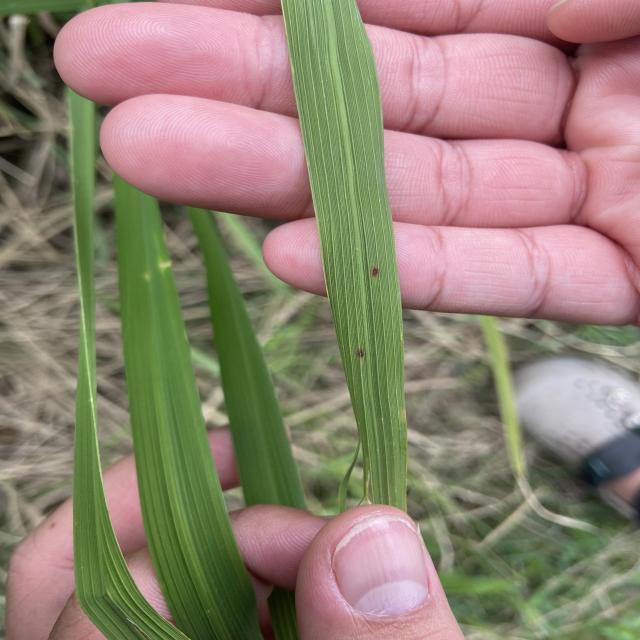Dao on: (356, 348, 364, 359), (371, 267, 379, 277)
